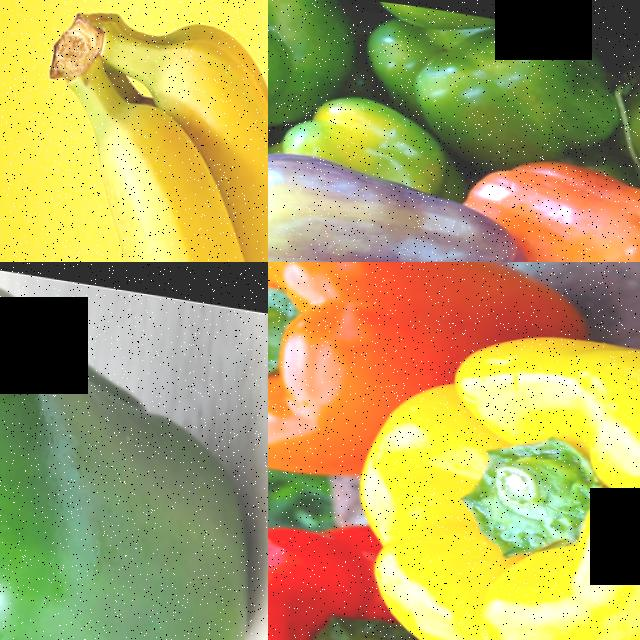banana: (0, 0, 268, 262)
bell pepper: (0, 262, 268, 640), (372, 312, 640, 640), (268, 149, 518, 262), (268, 262, 396, 465), (375, 15, 582, 133), (510, 163, 640, 262), (268, 0, 321, 128)
